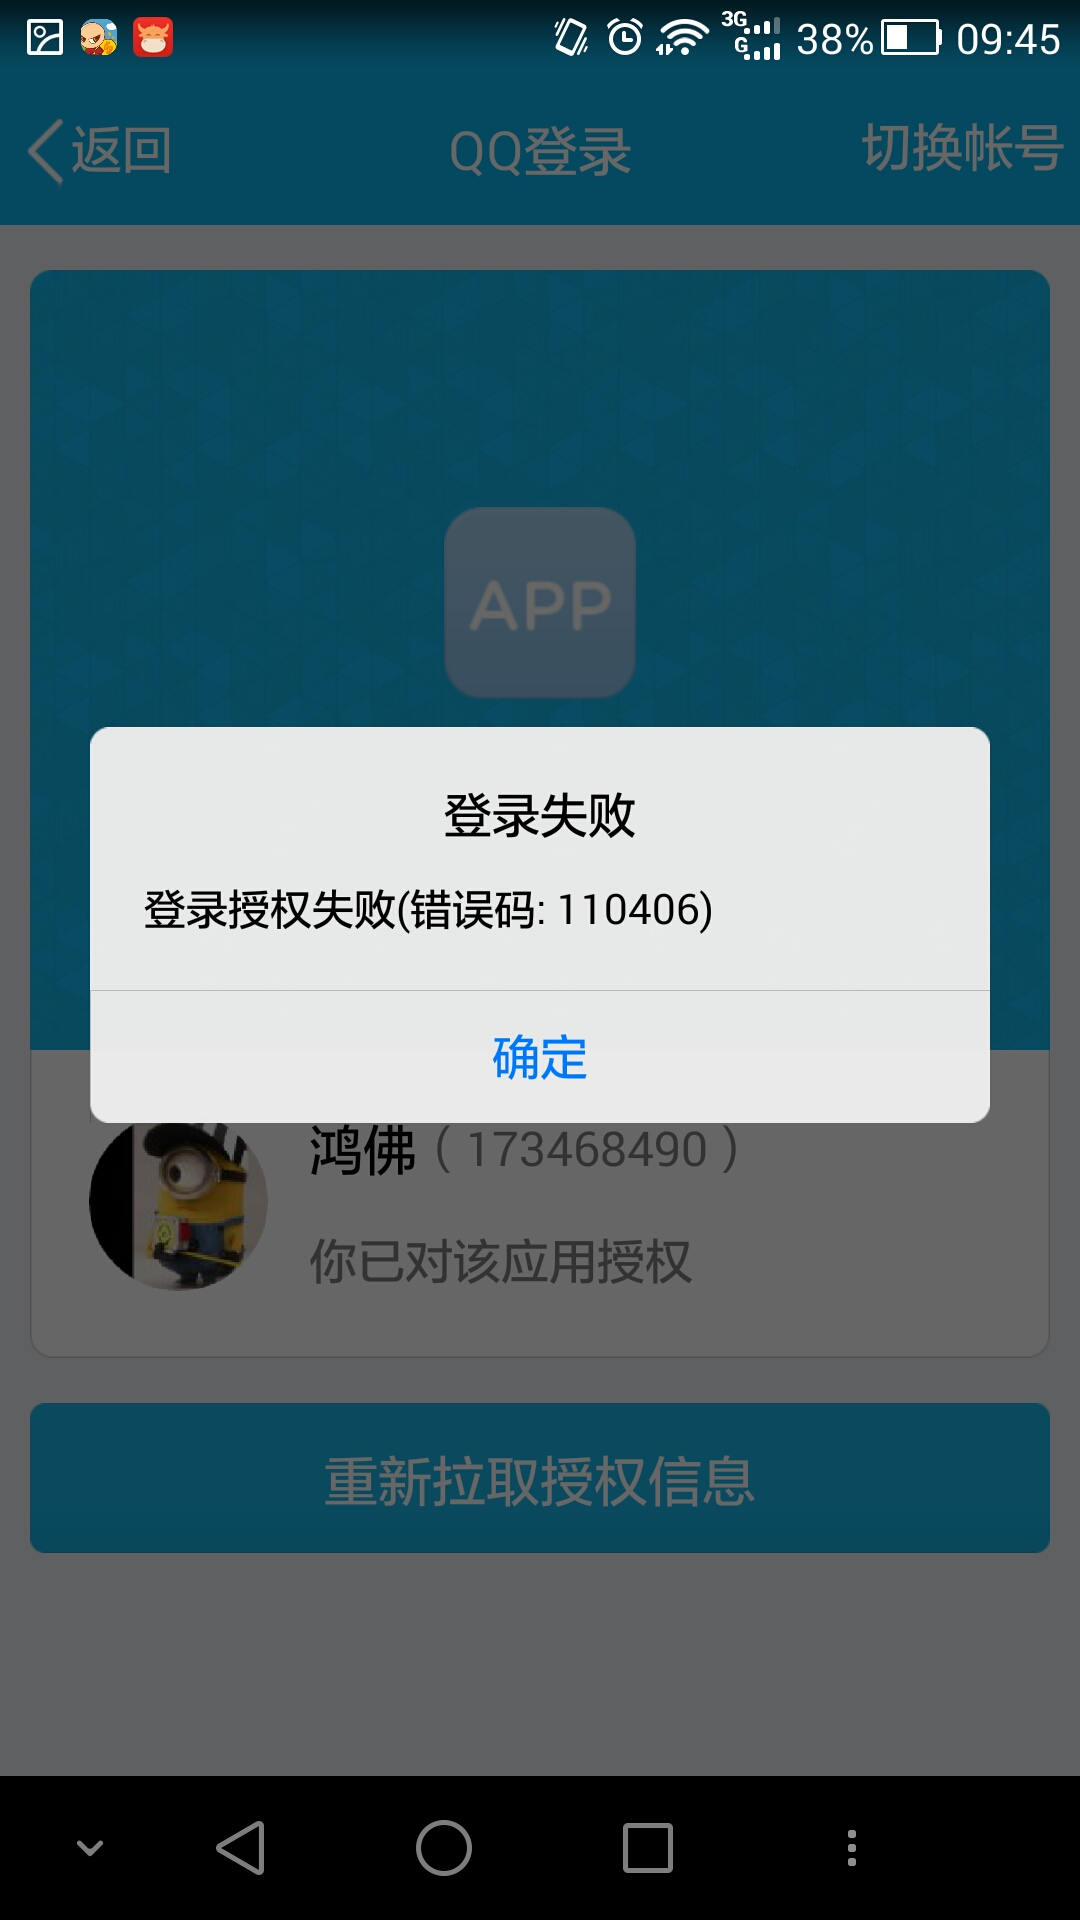alert: (84, 716, 1002, 1137)
button: (88, 976, 998, 1127)
textview: (112, 862, 733, 957)
